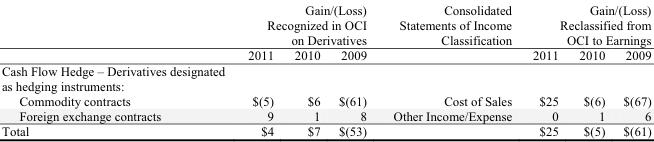table: (0, 1, 650, 139)
table column: (0, 1, 203, 139), (379, 1, 521, 139), (203, 1, 283, 139), (328, 1, 379, 139), (521, 1, 568, 139), (283, 1, 328, 139), (568, 1, 613, 139), (613, 1, 650, 139)
table column header: (0, 1, 650, 62)
table projected row header: (0, 62, 650, 77), (0, 77, 650, 92)
table row: (0, 1, 650, 47), (0, 122, 650, 139), (0, 47, 650, 62), (0, 62, 650, 77), (0, 77, 650, 92), (0, 92, 650, 107), (0, 107, 650, 122)
table spanning cell: (379, 1, 521, 62), (203, 1, 379, 47), (521, 1, 650, 47)
